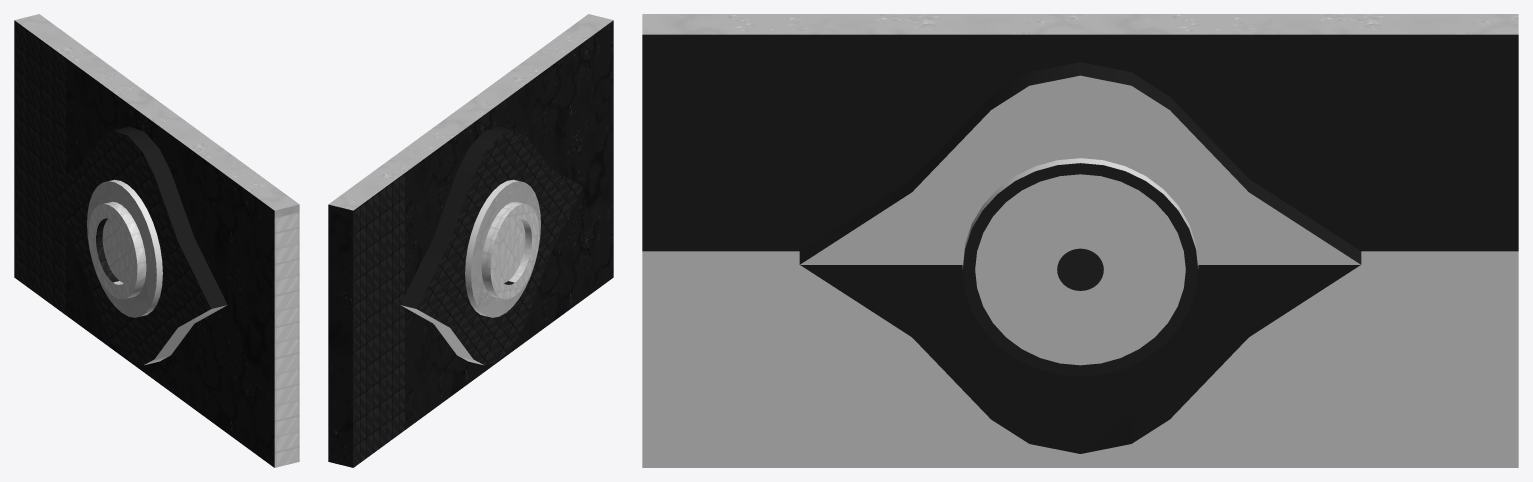
The model's file is Target.fbx.
3 views of the same model, side by side, from view 1: azimuth 30°, elevation 25°; view 2: azimuth 150°, elevation 25°; view 3: azimuth 270°, elevation 25° (orthographic). The views are drawn at different scales.
Visible parts, largest first — view 1: Cylinder, Cylinder.001; view 2: Cylinder, Cylinder.001; view 3: Cylinder, Cylinder.001.
Boxes of the visible parts, bbox=[...] form: Cylinder: bbox=[14, 14, 299, 467]; Cylinder.001: bbox=[44, 126, 227, 365]; Cylinder: bbox=[328, 14, 613, 467]; Cylinder.001: bbox=[400, 126, 583, 365]; Cylinder: bbox=[642, 14, 1518, 467]; Cylinder.001: bbox=[799, 62, 1361, 453].
Bounding box in the file's own units: 131 × 406 × 744.
